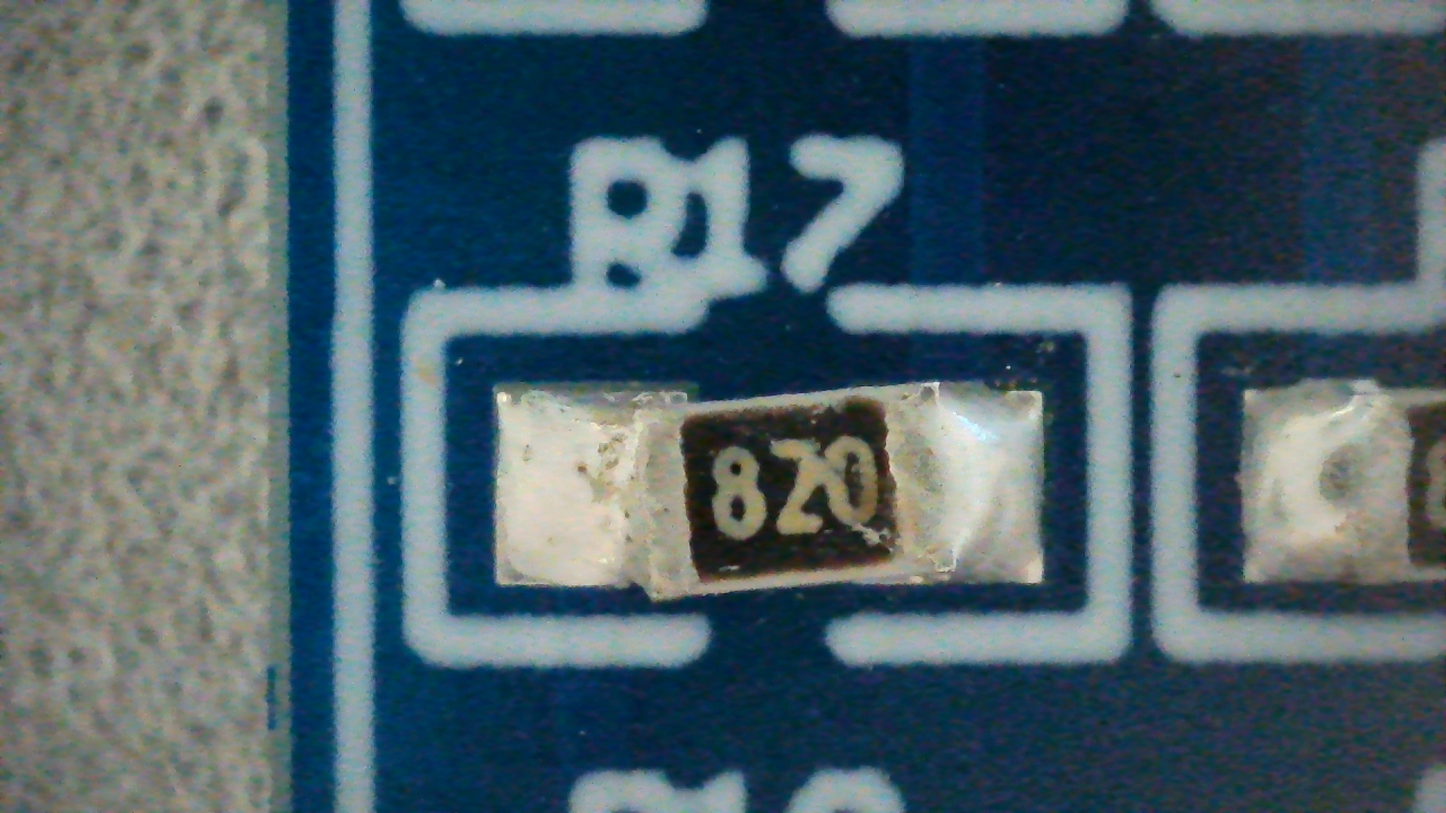NG: (497, 381, 1044, 600)
